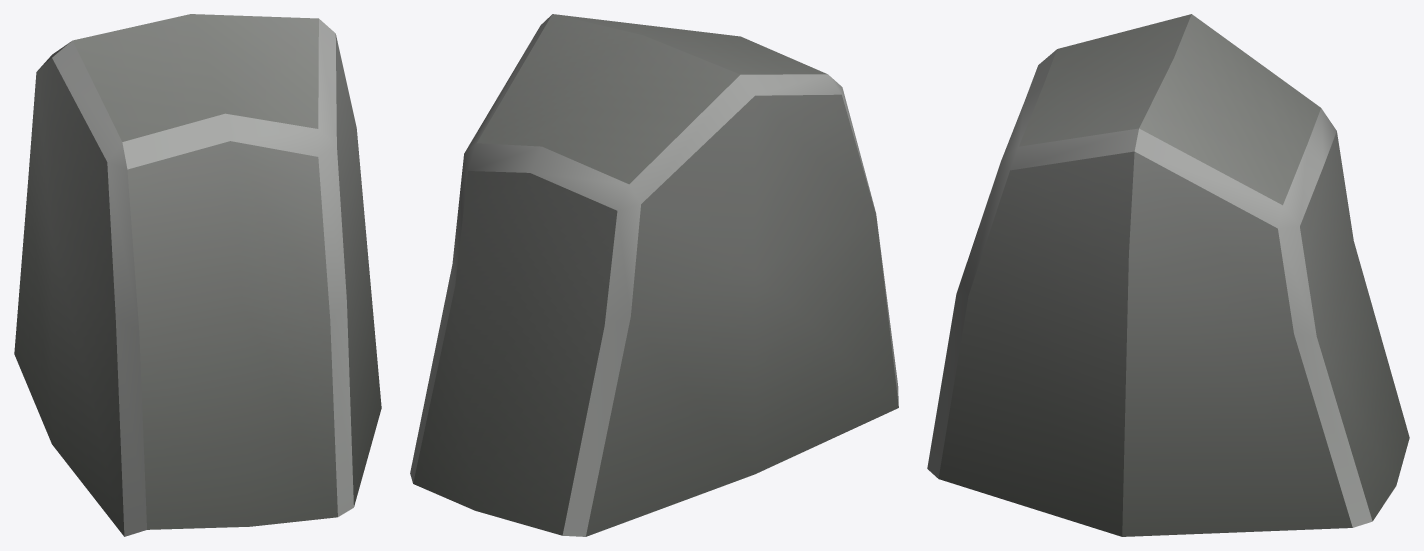
The model's file is Rock-1-7.fbx.
The picture shows the model from 3 angles, left to right: view 1: azimuth 30°, elevation 25°; view 2: azimuth 150°, elevation 25°; view 3: azimuth 270°, elevation 25°; orthographic projection. The views are drawn at different scales.
Visible parts, largest first — view 1: Rock-1-7; view 2: Rock-1-7; view 3: Rock-1-7.
Part boxes in pixels (bbox=[...]): Rock-1-7: bbox=[14, 14, 381, 536]; Rock-1-7: bbox=[410, 14, 898, 536]; Rock-1-7: bbox=[927, 14, 1409, 536].
Bounding box in the file's own units: 91.42 × 110 × 121.
